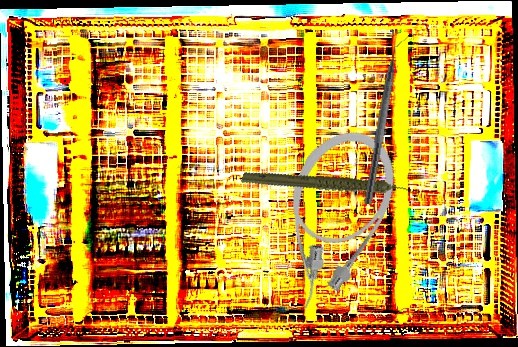Cannula: (248, 115, 413, 323)
Chopper: (363, 33, 411, 207)
Handpiece: (240, 136, 415, 236)
